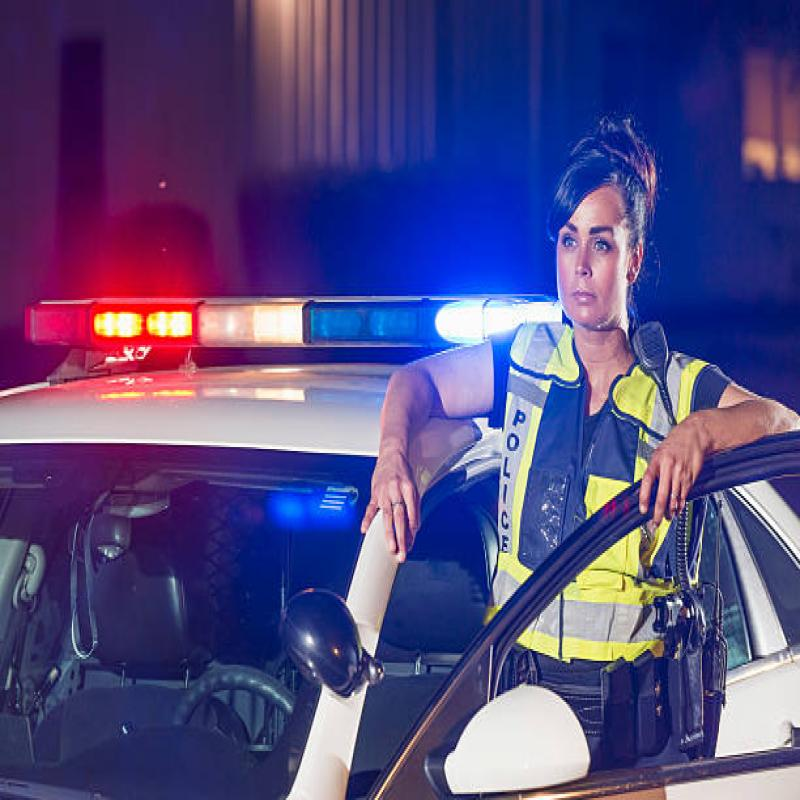AmbulanceSiren: (6, 268, 567, 396)
